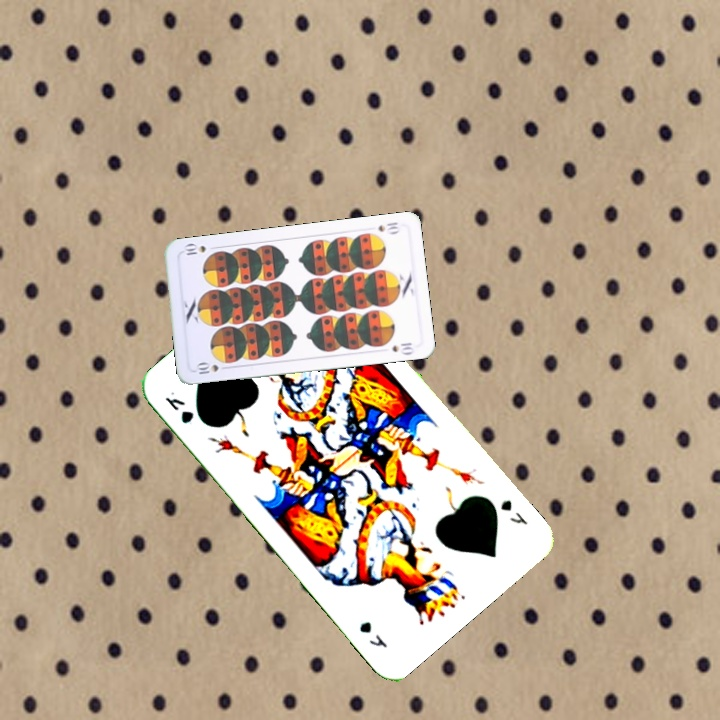GK: (161, 393, 197, 427), (496, 495, 531, 528)
S10: (193, 360, 232, 377), (374, 218, 402, 236)
